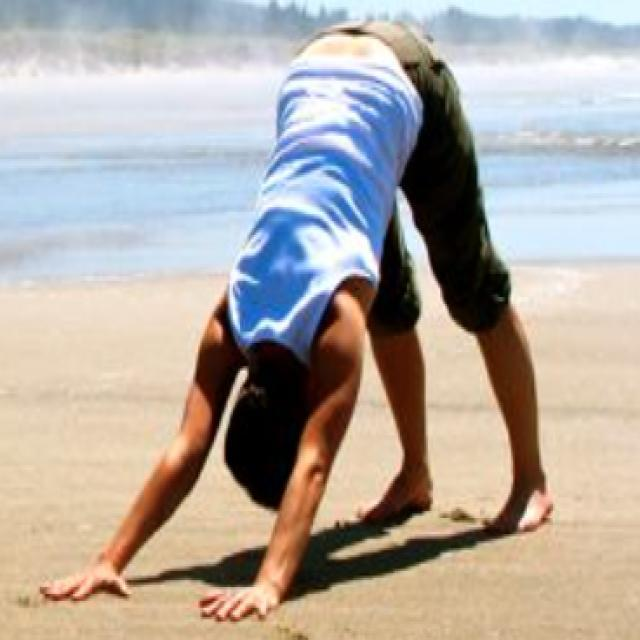Downward-Facing_Dog: (31, 12, 559, 624)
